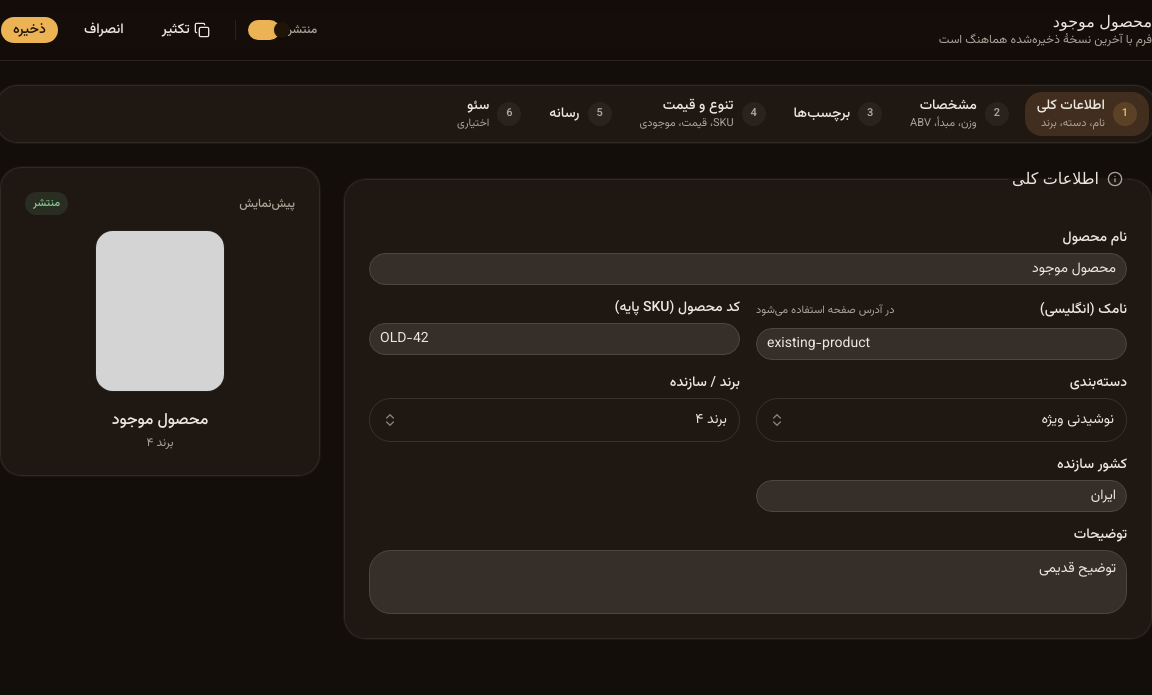
it: ProductForm complete authoring journeys › names every failing variant cell and jumps into the grid
Clear the field labelled "نام محصول" at coordinates (748, 269), box [369,253,1127,285]
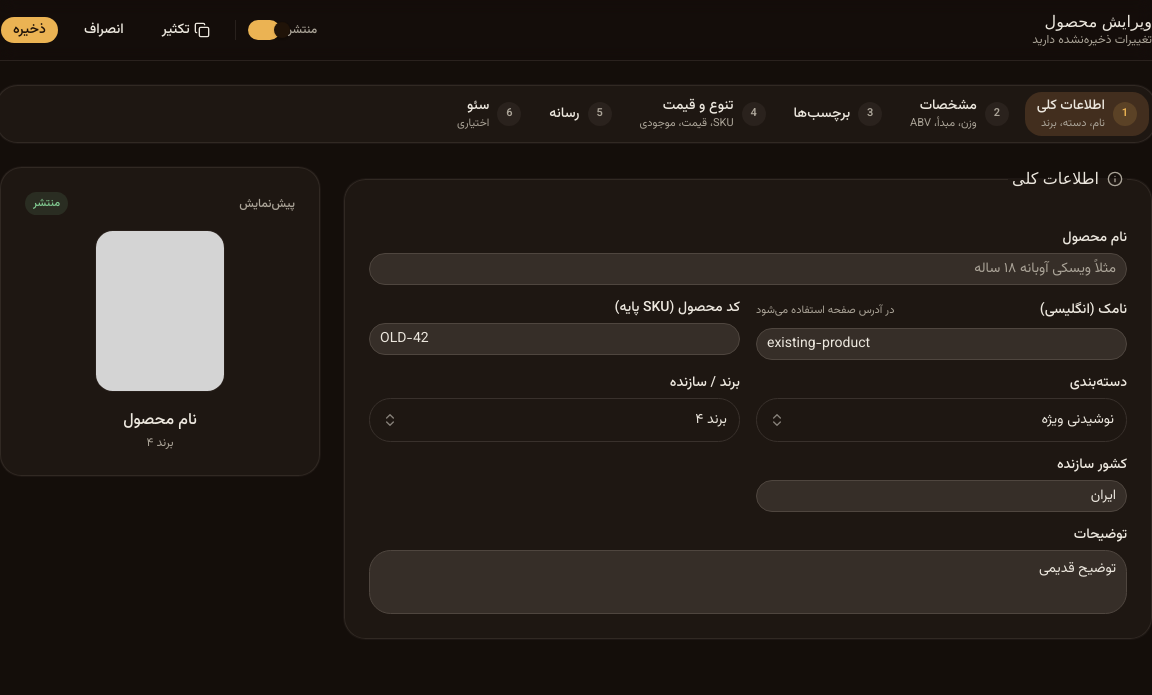
Click the link "4 تنوع و قیمت SKU، قیمت، موجودی".
click(703, 114)  # box [640,95,766,132]
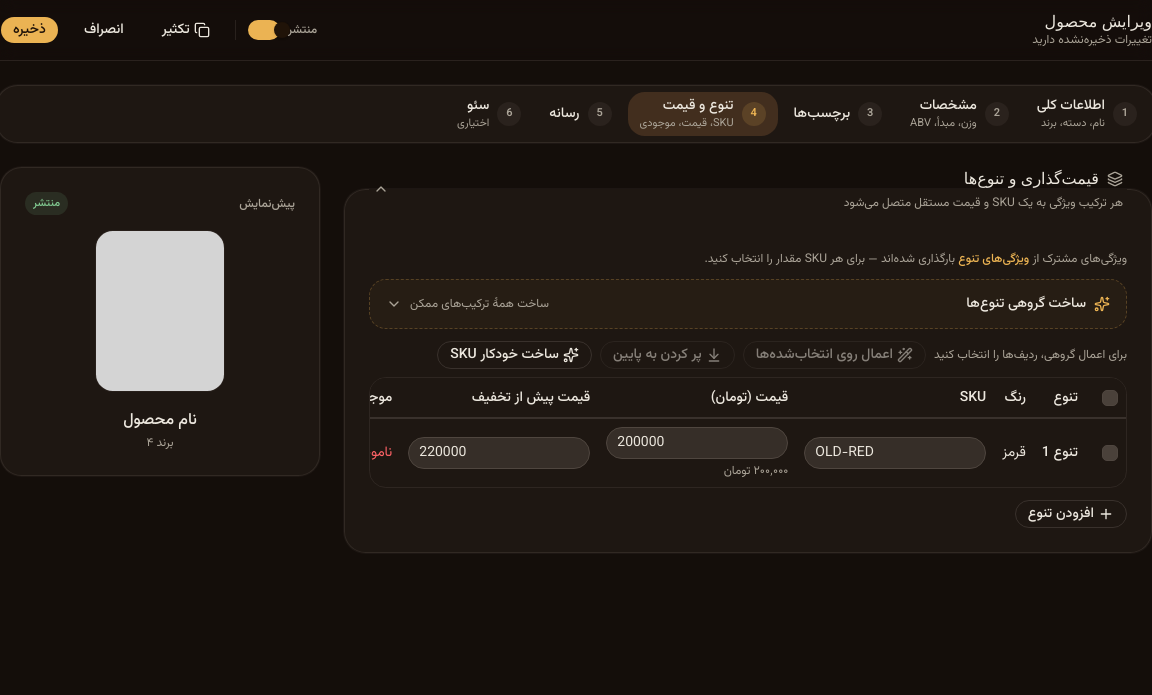
Clear the field named "قیمت تنوع 1 به تومان" at coordinates (697, 442), box [606,426,788,458]
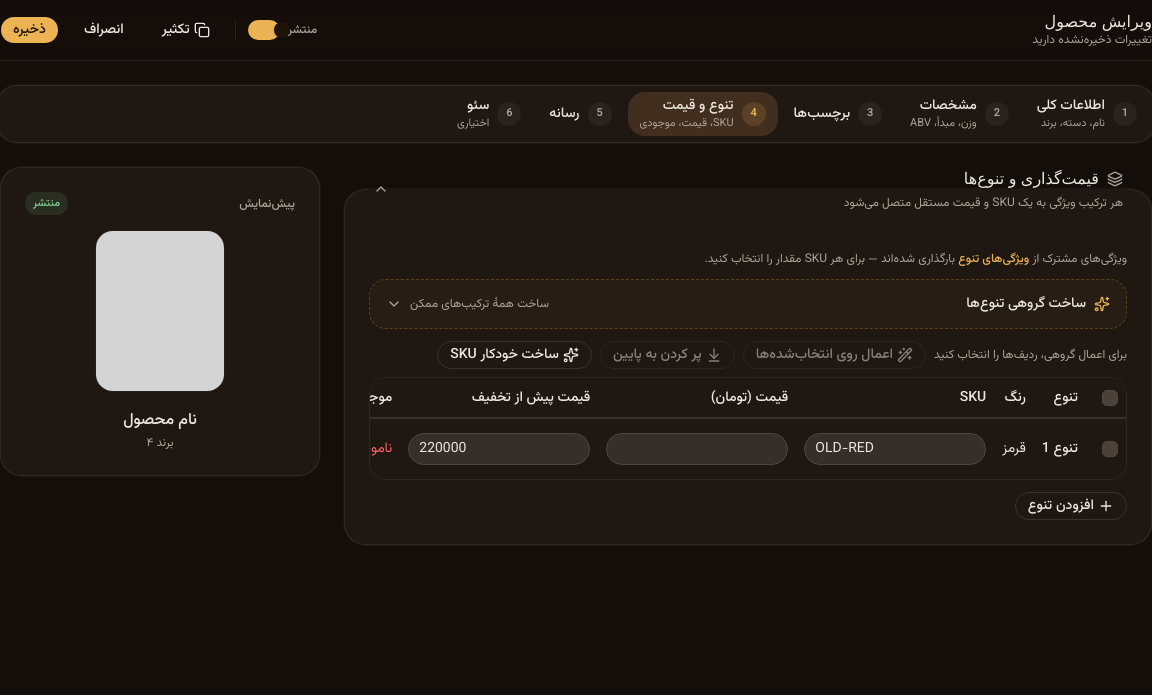
Click the button "ذخیره".
click(29, 30)  # box [0,16,59,44]
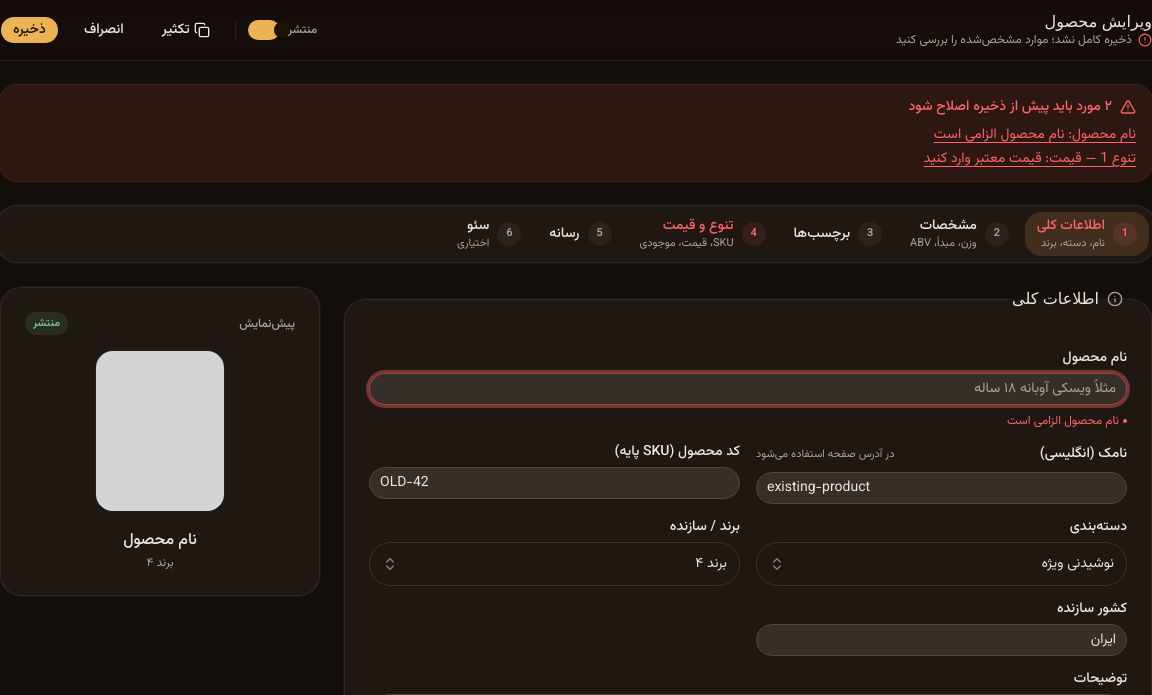
Expected: the link "نام محصول: نام محصول الزامی است" is shown, [934,124,1136,146]
Expected: the text "۲ مورد باید پیش از ذخیره اصلاح شود" is shown, [908,96,1136,118]
Click the link "تنوع 1 — قیمت: قیمت معتبر وارد کنید".
click(1075, 159)  # box [924,148,1136,170]
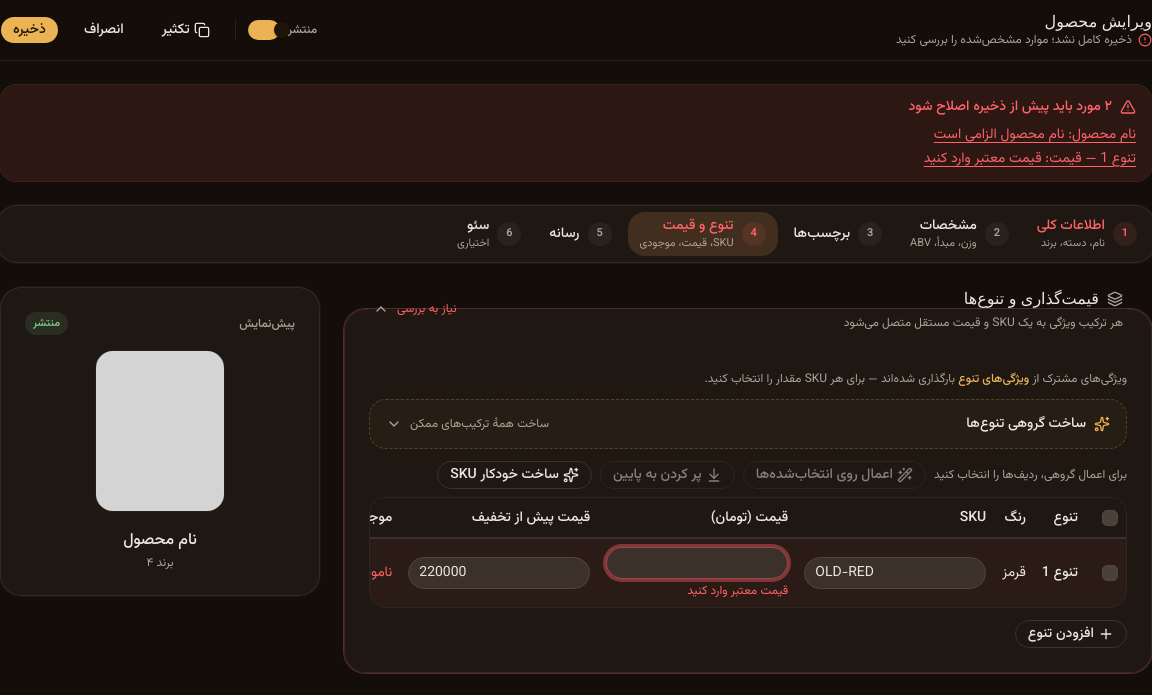
Type "250000" into the field named "قیمت تنوع 1 به تومان".
click(697, 562); type("250000")  # box [606,546,788,578]
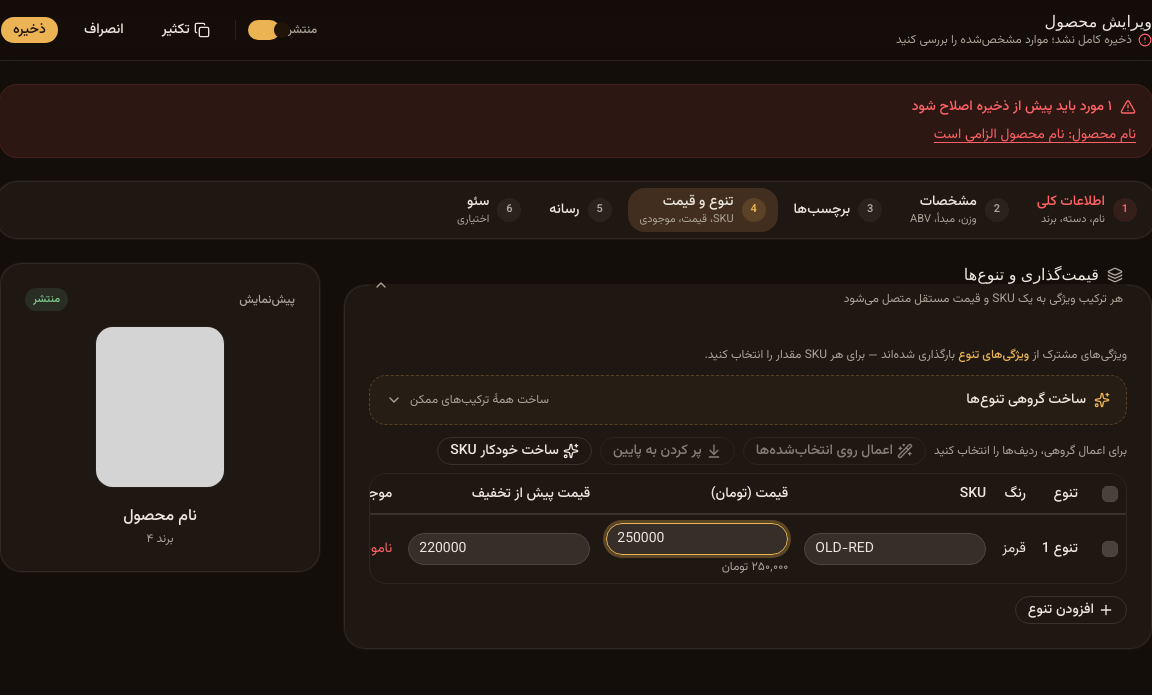
Expected: the text "۱ مورد باید پیش از ذخیره اصلاح شود" is shown, [912,96,1136,118]
Expected: the link "تنوع 1 — قیمت" is gone
